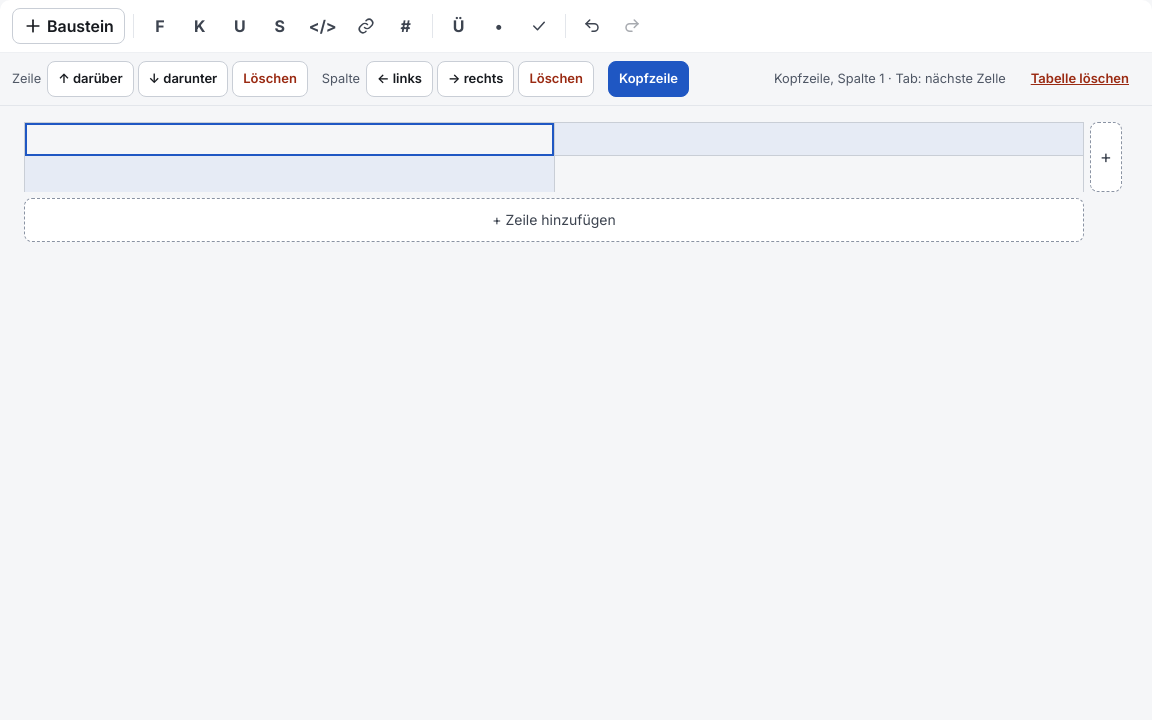
Test: Doku: Tabellen › löscht die Tabelle erst nach Bestätigung
Click the button "Tabelle löschen".
click(1080, 79)  # box [1020, 61, 1140, 97]
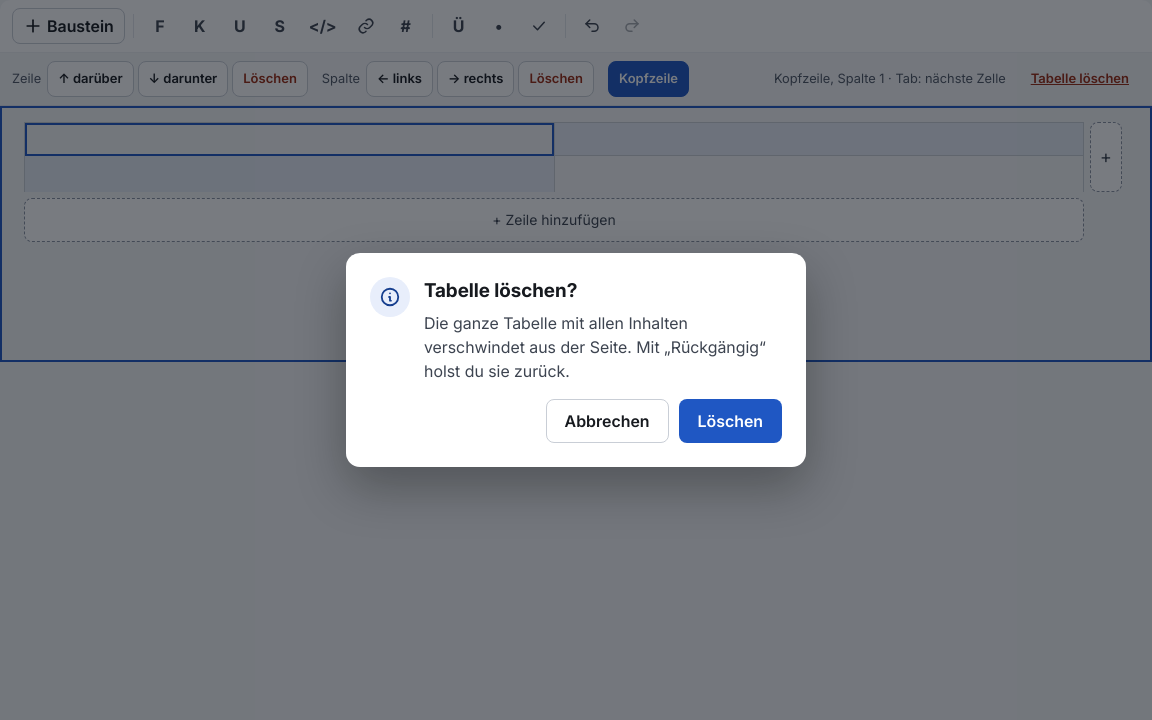
Click the button "Löschen".
click(730, 421)  # box [678, 399, 782, 443]
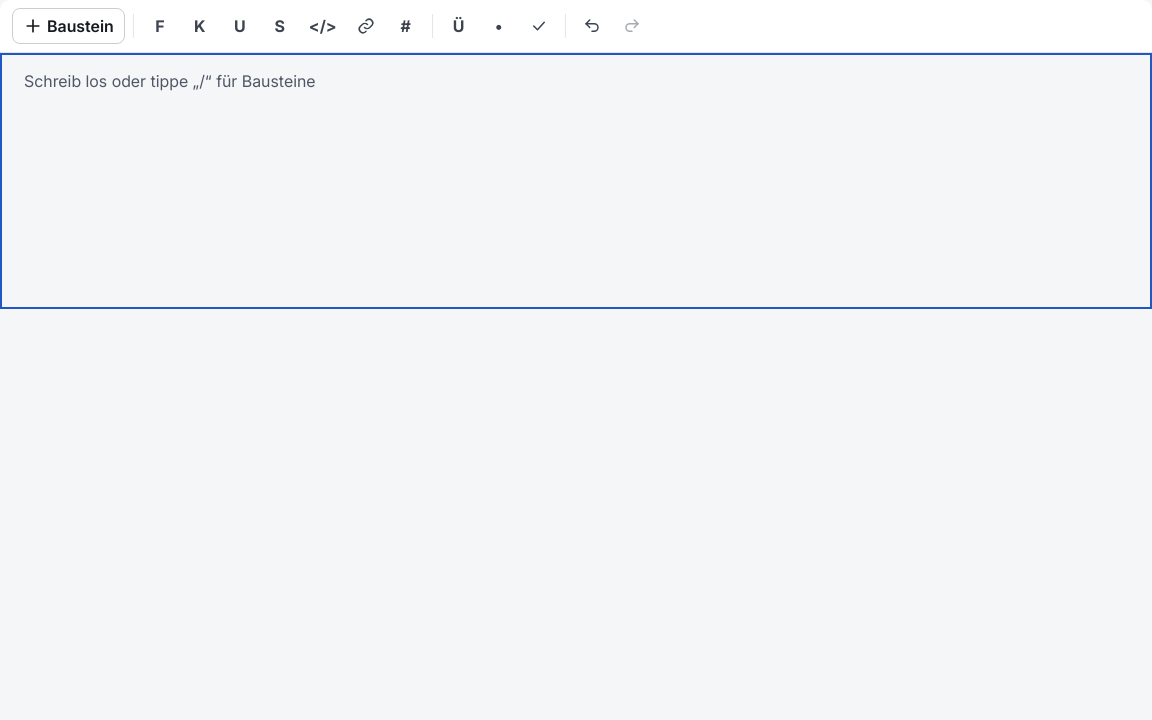
Now the button "Tabelle" is gone
